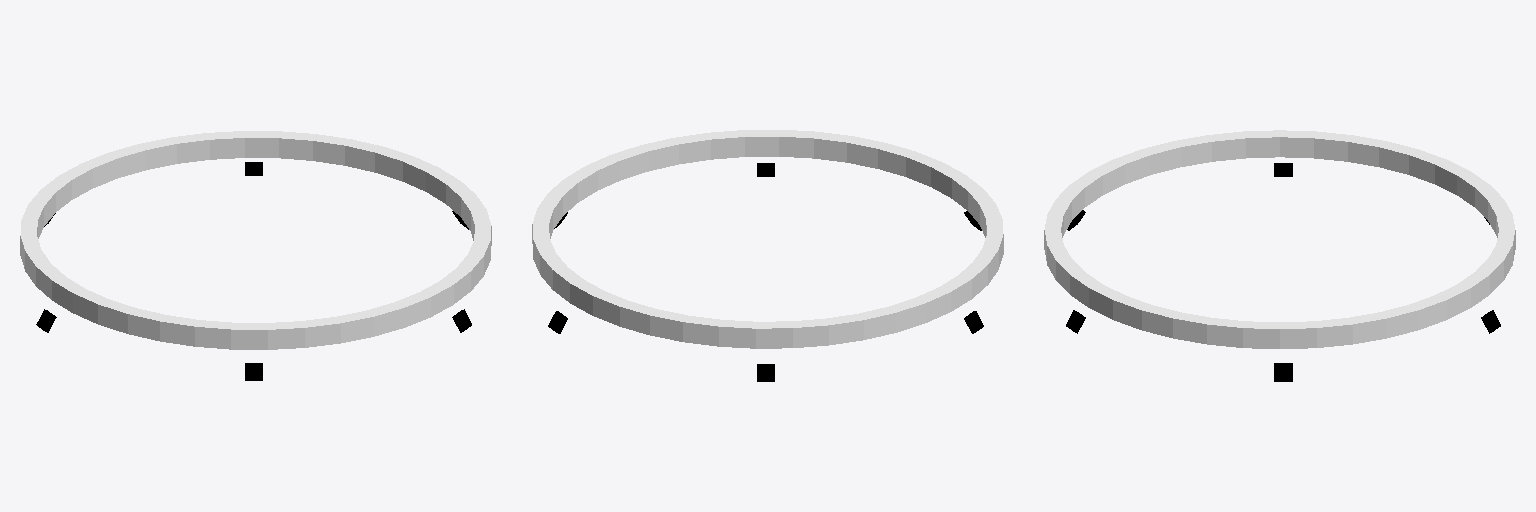
robot.urdf — epuck:
<robot name="epuck">
    <link name="base_link">
        <visual>
            <geometry>
                <mesh filename="epuck_body.obj" scale="0.5 0.5 0.5" />
            </geometry>
            <origin rpy="1.57075 0 0" xyz="0.0 -0.098 0.125" />
            <material name="light_grey">
                <color rgba="0.4 0.4 0 1" />
            </material>
        </visual>
        <collision>
            <geometry>
                <mesh filename="epuck_body.obj" scale="0.5 0.5 0.5" />
            </geometry>
             <origin rpy="1.57075 0 0" xyz="0.0 0.0 0.125" />
        </collision>
        <inertial>
            <mass value="1.5" />
            <inertia ixx="1.0" ixy="0.0" ixz="0.0" iyy="1.0" iyz="0.0" izz="1.0" />
        </inertial>
    </link>

     <link name="right_wheel">
        <visual>
            <geometry>
                <mesh filename="wheel.obj" scale="0.5 0.25 0.5" />
            </geometry>
            <origin xyz="0 0 0" />
            <material name="black">
                <color rgba="0.2 0.0 0.0 1" />
            </material>
        </visual>
        <collision>
            <geometry>
                <mesh filename="wheel.obj" scale="0.5 0.25 0.5" />
            </geometry>
            <origin xyz="0 0 0" />
        </collision>
        <inertial>
            <mass value="0.1" />
            <inertia ixx="1.0" ixy="0.0" ixz="0.0" iyy="1.0" iyz="0.0" izz="1.0" />
        </inertial>
    </link>

    <link name="left_wheel">
        <visual>
            <geometry>
                <mesh filename="wheel.obj" scale="0.5 0.25 0.5" />
            </geometry>
            <origin xyz="0 0 0" />
            <material name="black">
                <color rgba="0.0 0.0 0.0 1" />
            </material>
        </visual>
        <collision>
            <geometry>
               <mesh filename="wheel.obj" scale="0.5 0.25 0.5" />
            </geometry>
            <origin xyz="0 0 0" />
        </collision>
        <inertial>
            <mass value="0.1" />
            <inertia ixx="1.0" ixy="0.0" ixz="0.0" iyy="1.0" iyz="0.0" izz="1.0" />
        </inertial>
    </link>

    <joint name="base_to_right_wheel" type="continuous">
        <parent link="base_link" />
        <child link="right_wheel" />
      	<axis xyz="0 1 0" />
        <origin rpy="0 0 0" xyz="0.007 -0.12 0.078" />
    </joint>

    <joint name="base_to_left_wheel" type="continuous">
        <parent link="base_link" />
        <child link="left_wheel" />
       	<axis xyz="0 1 0" />
        <origin rpy="0 0 0" xyz="0.007 0.12 0.078" />
    </joint>
    <link name="top">
        <visual>
            <geometry>
                <mesh filename="epuck_top.obj" scale="0.5 0.5 0.5" />
            </geometry>
            <origin xyz="0 0 0" />
            <material name="green">
                <color rgba="0 0.6 0 1" />
            </material>
        </visual>
        <collision>
            <geometry>
               <mesh filename="epuck_top.obj" scale="0.5 0.5 0.5" />
            </geometry>
            <origin xyz="0 0 0" />
        </collision>
        <inertial>
            <mass value="0.5" />
            <inertia ixx="1.0" ixy="0.0" ixz="0.0" iyy="1.0" iyz="0.0" izz="1.0" />
        </inertial>
    </link>

    <joint name="base_to_top" type="fixed">
        <parent link="base_link" />
        <child link="top" />
        <origin rpy="1.57075 0 0" xyz="0 -0.098 0.12" />
    </joint>
    <link name="leds">
        <visual>
            <geometry>
                <mesh filename="led_base.obj" scale="0.5 0.5 0.5" />
            </geometry>
            <origin xyz="0 0 0" />
            <material name="white">
                <color rgba="1 1 1 0.7" />
            </material>
        </visual>
        <collision>
            <geometry>
               <mesh filename="led_base.obj" scale="0.5 0.5 0.5" />
            </geometry>
            <origin xyz="0 0 0" />
        </collision>
        <inertial>
            <mass value="0.01" />
            <inertia ixx="1.0" ixy="0.0" ixz="0.0" iyy="1.0" iyz="0.0" izz="1.0" />
        </inertial>
    </link>

    <joint name="base_to_leds" type="fixed">
        <parent link="base_link" />
        <child link="leds" />
        <origin rpy="1.57075 0 0" xyz="0 -0.098 0.12" />
    </joint>

    <link name="cam">
        <visual>
            <geometry>
                <mesh filename="cam.obj" scale="0.5 0.5 0.5" />
            </geometry>
            <origin xyz="0 0 0" />
            <material name="black">
                <color rgba="0 0 0 1" />
            </material>
        </visual>
        <collision>
            <geometry>
               <mesh filename="cam.obj" scale="0.5 0.5 0.5" />
            </geometry>
            <origin xyz="0 0 0" />
        </collision>
        <inertial>
            <mass value="0.005" />
            <inertia ixx="1.0" ixy="0.0" ixz="0.0" iyy="1.0" iyz="0.0" izz="1.0" />
        </inertial>
    </link>

    <joint name="base_to_cam" type="fixed">
        <parent link="base_link" />
        <child link="cam" />
        <origin rpy="3.1415 1.57075 0" xyz="0.268 0.0 0.07" />
    </joint>
    

    <link name="IR0">
        <visual>
            <geometry>
                <mesh filename="ir.obj" scale="1 1 1" />
            </geometry>
            <origin xyz="0 0 0" />
            <material name="black">
                <color rgba="0 0 0 1" />
            </material>
        </visual>
        <collision>
            <geometry>
            <mesh filename="ir.obj" scale="1 1 1" />
            </geometry>
            <origin xyz="0 0 0" />
        </collision>
        <inertial>
            <mass value="0.0" />
            <inertia ixx="1.0" ixy="0.0" ixz="0.0" iyy="1.0" iyz="0.0" izz="1.0" />
        </inertial>
    </link>
    <joint name="base_to_IR0" type="fixed">
        <parent link="base_link" />
        <child link="IR0" />
        <origin rpy="1.2 0 1.5707963267948966" xyz="0.16 0.0 0.127" />
    </joint>
    <link name="IR1">
        <visual>
            <geometry>
                <mesh filename="ir.obj" scale="1 1 1" />
            </geometry>
            <origin xyz="0 0 0" />
            <material name="black">
                <color rgba="0 0 0 1" />
            </material>
        </visual>
        <collision>
            <geometry>
            <mesh filename="ir.obj" scale="1 1 1" />
            </geometry>
            <origin xyz="0 0 0" />
        </collision>
        <inertial>
            <mass value="0.0" />
            <inertia ixx="1.0" ixy="0.0" ixz="0.0" iyy="1.0" iyz="0.0" izz="1.0" />
        </inertial>
    </link>
    <joint name="base_to_IR1" type="fixed">
        <parent link="base_link" />
        <child link="IR1" />
        <origin rpy="1.2 0 2.617993877991494" xyz="0.08000000000000002 0.13856406460551018 0.127" />
    </joint>
    <link name="IR2">
        <visual>
            <geometry>
                <mesh filename="ir.obj" scale="1 1 1" />
            </geometry>
            <origin xyz="0 0 0" />
            <material name="black">
                <color rgba="0 0 0 1" />
            </material>
        </visual>
        <collision>
            <geometry>
            <mesh filename="ir.obj" scale="1 1 1" />
            </geometry>
            <origin xyz="0 0 0" />
        </collision>
        <inertial>
            <mass value="0.0" />
            <inertia ixx="1.0" ixy="0.0" ixz="0.0" iyy="1.0" iyz="0.0" izz="1.0" />
        </inertial>
    </link>
    <joint name="base_to_IR2" type="fixed">
        <parent link="base_link" />
        <child link="IR2" />
        <origin rpy="1.2 0 3.665191429188092" xyz="-0.07999999999999996 0.13856406460551018 0.127" />
    </joint>
    <link name="IR3">
        <visual>
            <geometry>
                <mesh filename="ir.obj" scale="1 1 1" />
            </geometry>
            <origin xyz="0 0 0" />
            <material name="black">
                <color rgba="0 0 0 1" />
            </material>
        </visual>
        <collision>
            <geometry>
            <mesh filename="ir.obj" scale="1 1 1" />
            </geometry>
            <origin xyz="0 0 0" />
        </collision>
        <inertial>
            <mass value="0.0" />
            <inertia ixx="1.0" ixy="0.0" ixz="0.0" iyy="1.0" iyz="0.0" izz="1.0" />
        </inertial>
    </link>
    <joint name="base_to_IR3" type="fixed">
        <parent link="base_link" />
        <child link="IR3" />
        <origin rpy="1.2 0 4.71238898038469" xyz="-0.16 1.959434878635765e-17 0.127" />
    </joint>
    <link name="IR4">
        <visual>
            <geometry>
                <mesh filename="ir.obj" scale="1 1 1" />
            </geometry>
            <origin xyz="0 0 0" />
            <material name="black">
                <color rgba="0 0 0 1" />
            </material>
        </visual>
        <collision>
            <geometry>
            <mesh filename="ir.obj" scale="1 1 1" />
            </geometry>
            <origin xyz="0 0 0" />
        </collision>
        <inertial>
            <mass value="0.0" />
            <inertia ixx="1.0" ixy="0.0" ixz="0.0" iyy="1.0" iyz="0.0" izz="1.0" />
        </inertial>
    </link>
    <joint name="base_to_IR4" type="fixed">
        <parent link="base_link" />
        <child link="IR4" />
        <origin rpy="1.2 0 5.759586531581287" xyz="-0.08000000000000007 -0.13856406460551016 0.127" />
    </joint><link name="IR5">
        <visual>
            <geometry>
                <mesh filename="ir.obj" scale="1 1 1" />
            </geometry>
            <origin xyz="0 0 0" />
            <material name="black">
                <color rgba="0 0 0 1" />
            </material>
        </visual>
        <collision>
            <geometry>
            <mesh filename="ir.obj" scale="1 1 1" />
            </geometry>
            <origin xyz="0 0 0" />
        </collision>
        <inertial>
            <mass value="0.0" />
            <inertia ixx="1.0" ixy="0.0" ixz="0.0" iyy="1.0" iyz="0.0" izz="1.0" />
        </inertial>
    </link>
    <joint name="base_to_IR5" type="fixed">
        <parent link="base_link" />
        <child link="IR5" />
        <origin rpy="1.2 0 6.8067840827778845" xyz="0.07999999999999989 -0.13856406460551024 0.127" />
    </joint>

    
    <link name="arrow">
        <visual>
            <geometry>
                <mesh filename="arrow.obj" scale="0.1 0.1 0.1"/>
            </geometry>
            <origin xyz="0 0 0" rpy="1.57 0 -1.57"/>
            <material name="black">
                <color rgba="0 0 0 1"/>
            </material>
        </visual>
        <collision>
            <geometry>
               <mesh filename="arrow.obj" scale="0.1 0.1 0.1"/>
            </geometry>
            <origin xyz="0 0 0" rpy="1.57 0 -1.57"/>
        </collision>
        <inertial>
            <mass value="0"/>
            <inertia ixx="0.0" ixy="0.0" ixz="0.0" iyy="0.0" iyz="0.0" izz="0.0"/>
        </inertial>
    </link>
    <joint name="base_to_arrow" type="fixed">
        <parent link="base_link"/>
        <child link="arrow"/>
        <origin xyz="0 0.0 0.15" rpy="0 0 0"/>
    </joint>

</robot>

--- Render facts (derived) ---
3 views of the same robot in one strip: view 1: azimuth 30°, elevation 25°; view 2: azimuth 150°, elevation 25°; view 3: azimuth 270°, elevation 25° (orthographic).
Model epuck with 13 links and 12 joints (2 continuous, 10 fixed), rooted at base_link, posed every joint at zero.
Visible links, largest first — view 1: leds; view 2: leds; view 3: leds.
Boxes of the visible links, x1,y1,x2,y2 form: leds: [20, 131, 491, 349]; leds: [532, 130, 1003, 348]; leds: [1044, 130, 1515, 348].
Bounding box of the posed robot: 0.3384 × 0.3233 × 0.0373 m (x, y, z).
7 mesh visuals loaded from 7 distinct referenced files (2 OBJ); not drawn: 6 (reference not matched to a file when rendering).
